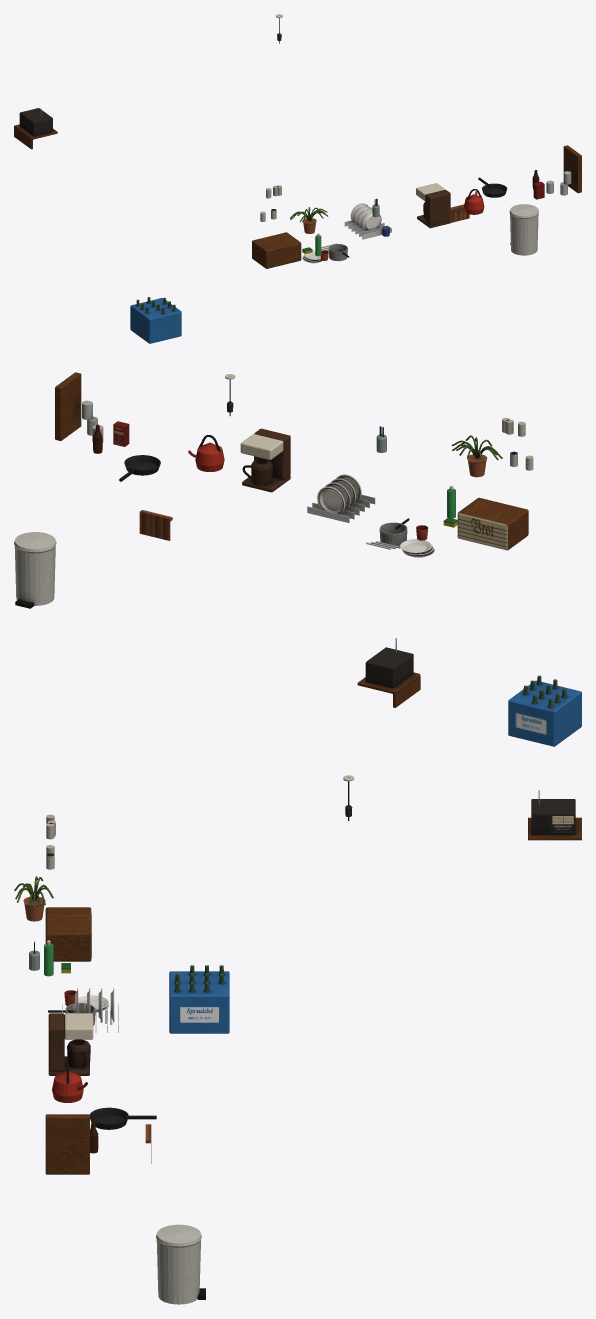
File: kue_kram.glb
3 views of the same model, one above another, from view 1: azimuth 30°, elevation 25°; view 2: azimuth 150°, elevation 25°; view 3: azimuth 270°, elevation 25° (orthographic). The views are drawn at different scales.
Parts seen in each view (by area): view 1: kue_kram; view 2: kue_kram; view 3: kue_kram.
Boxes of the visible parts, x1,y1,x2,y2 form: kue_kram: (14,14,581,343); kue_kram: (14,372,581,746); kue_kram: (14,775,581,1304).
Bounding box in the file's own units: 4.47 × 2.6 × 3.58.
Materials: 1 (1 with a texture image).
